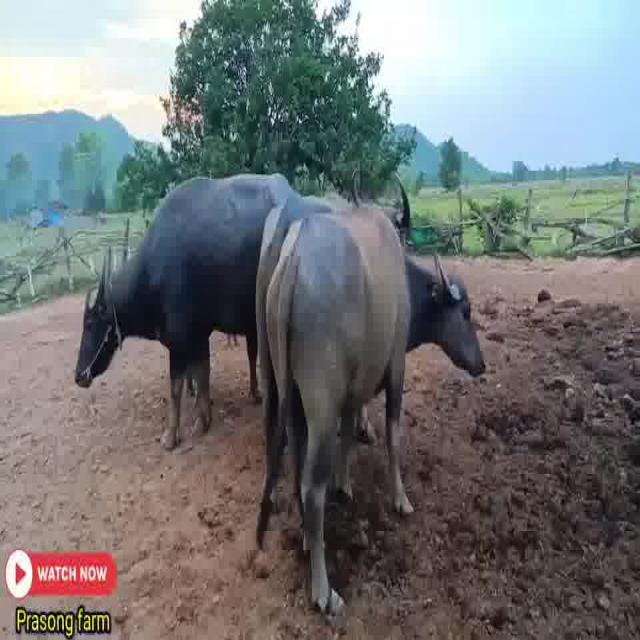buffalo: (255, 175, 458, 611), (61, 166, 271, 467)
